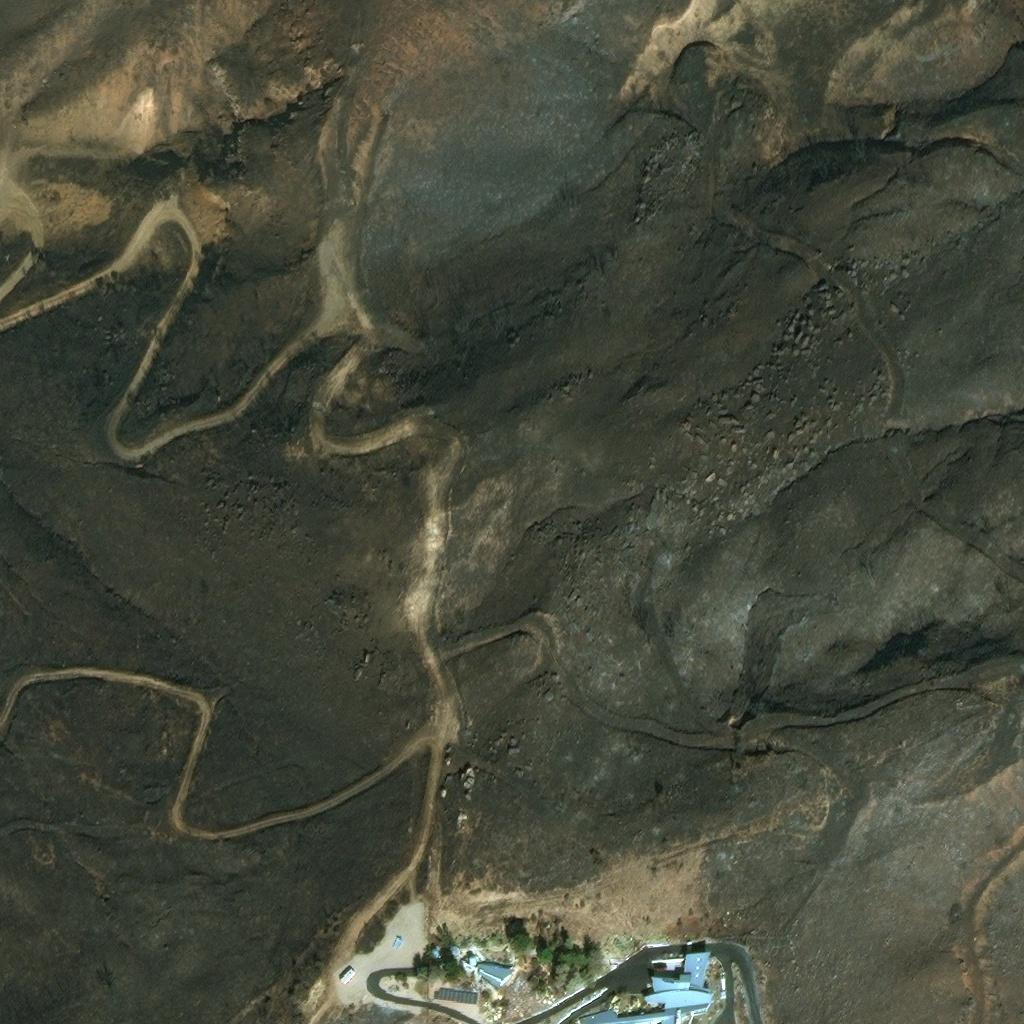0 no-damage: (578, 952, 713, 1023), (475, 961, 515, 994), (432, 989, 477, 1006), (458, 964, 473, 981), (427, 946, 441, 962), (466, 957, 478, 968), (448, 947, 458, 958)
